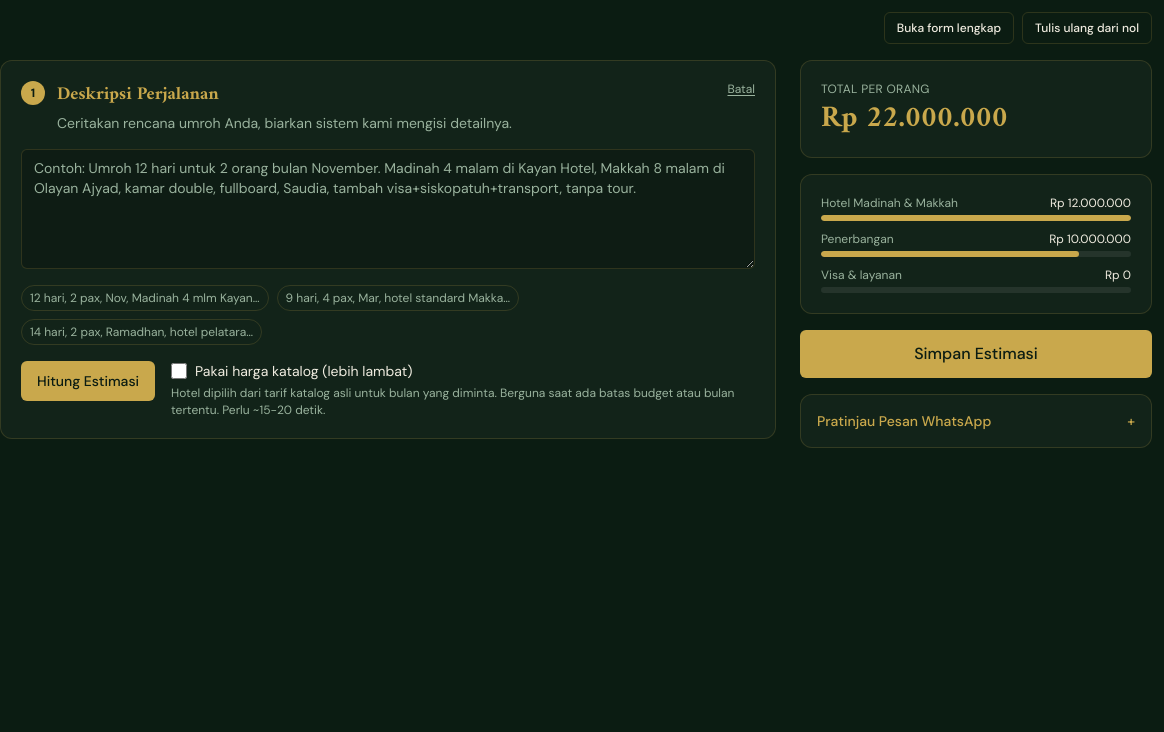
Scenario: EstimatorClient renders enhanced provenance in the existing notes area (R5) › shows the rate and its source_label for an exact catalogue hit
This screenshot has width=1164, height=732.
Replace the text in the text box with "umroh 12 hari maret double". click: (388, 209)
box: [21, 149, 755, 269]
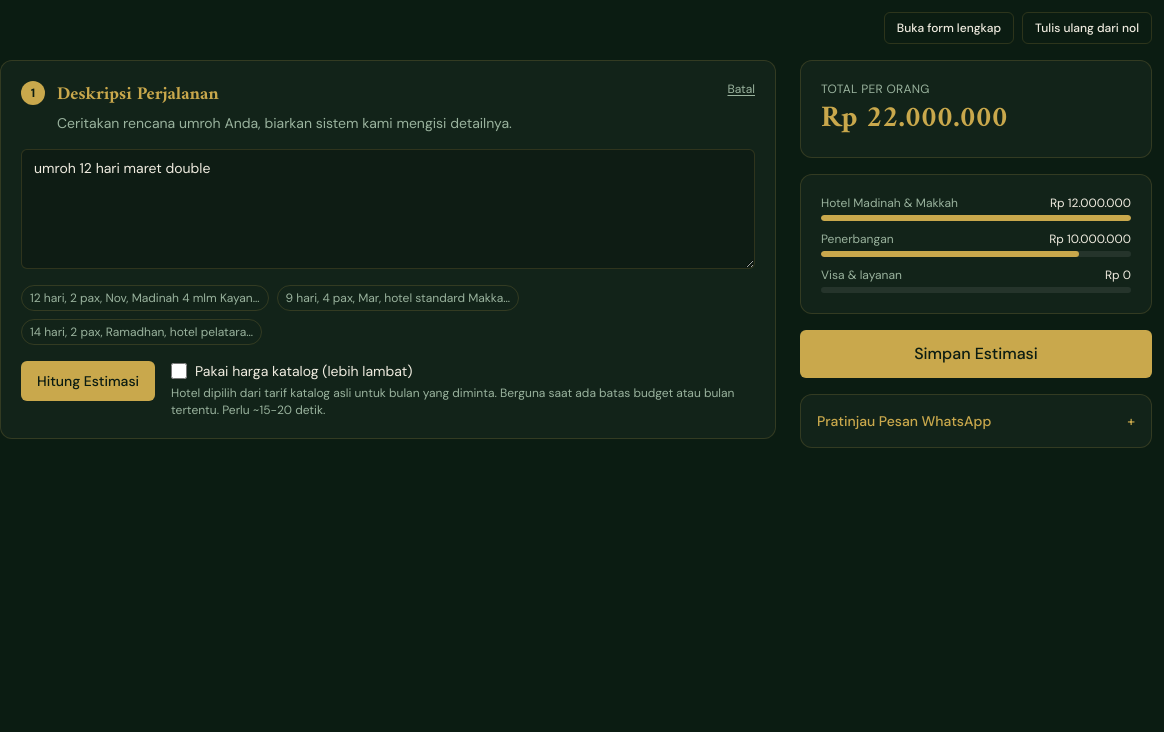
Click the checkbox labelled "Pakai harga katalog (lebih lambat)". click: (179, 371)
box: [171, 363, 187, 379]
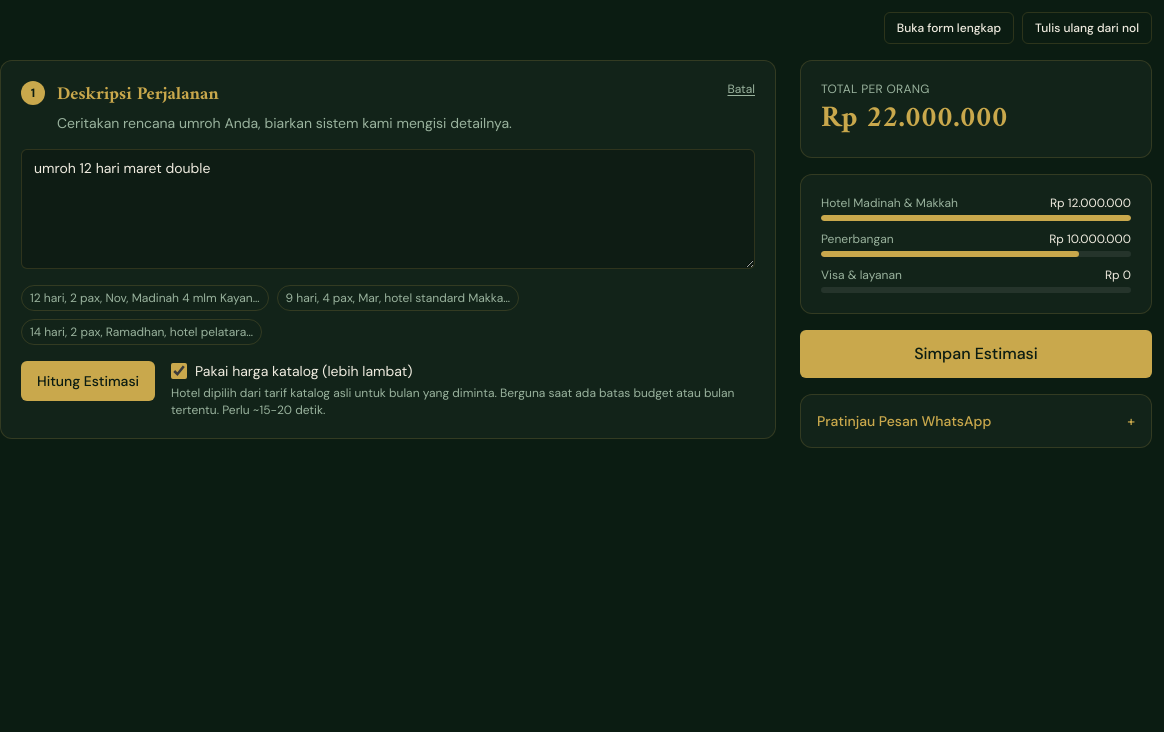
Click the button "Hitung Estimasi". click: (88, 381)
box: [21, 361, 155, 401]
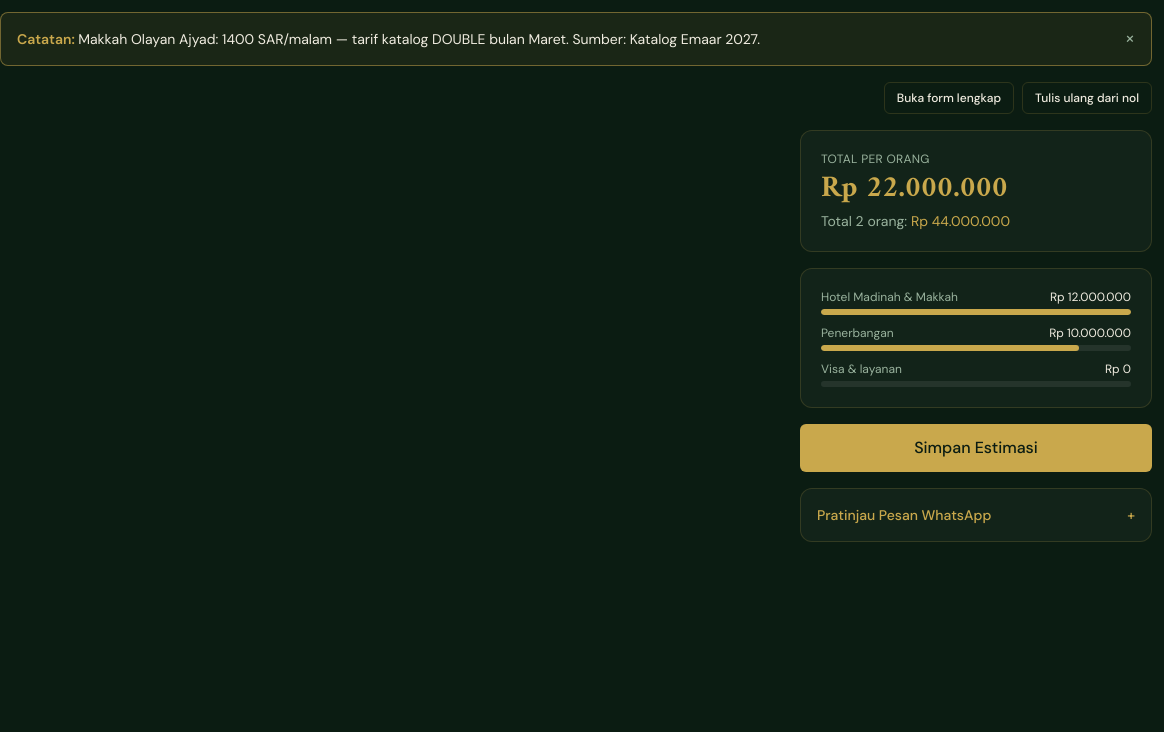
Check: the text "Catatan:" is shown, box [17, 30, 78, 48]
Check: the text "Katalog Emaar 2027" is shown, box [78, 30, 760, 48]
